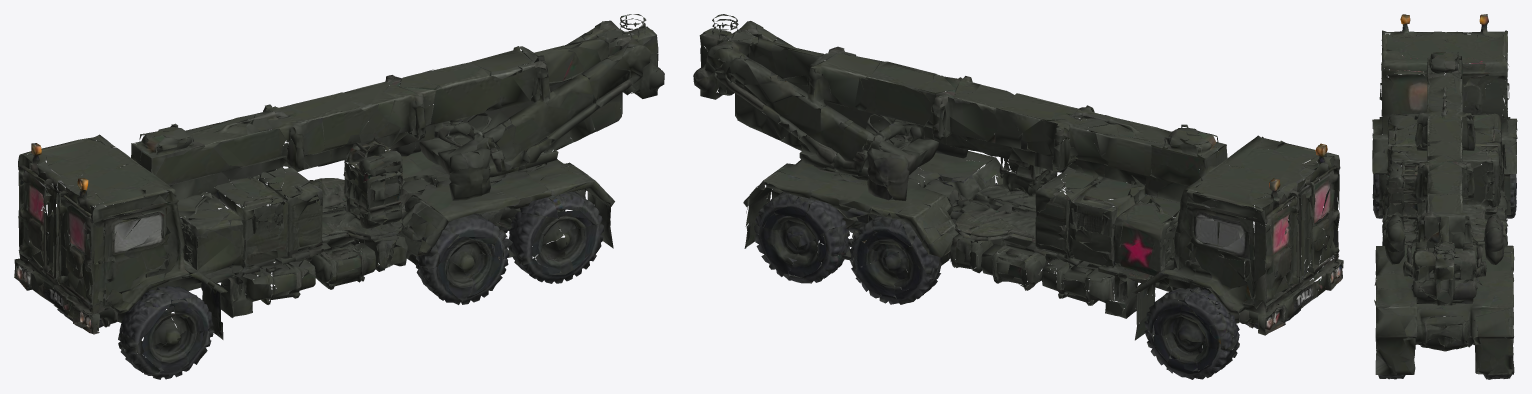
The model's file is homestead.glb.
The picture shows the model from 3 angles, left to right: view 1: azimuth 30°, elevation 25°; view 2: azimuth 150°, elevation 25°; view 3: azimuth 270°, elevation 25°; orthographic projection. The views are drawn at different scales.
Visible parts, largest first — view 1: Mesh_0; view 2: Mesh_0; view 3: Mesh_0.
Boxes of the visible parts, x1,y1,x2,y2 form: Mesh_0: (14, 14, 664, 379); Mesh_0: (693, 14, 1343, 379); Mesh_0: (1372, 14, 1517, 379).
Size of the model in its own units: 1.9 by 0.6311 by 0.4766.
1 material, 1 textured.
